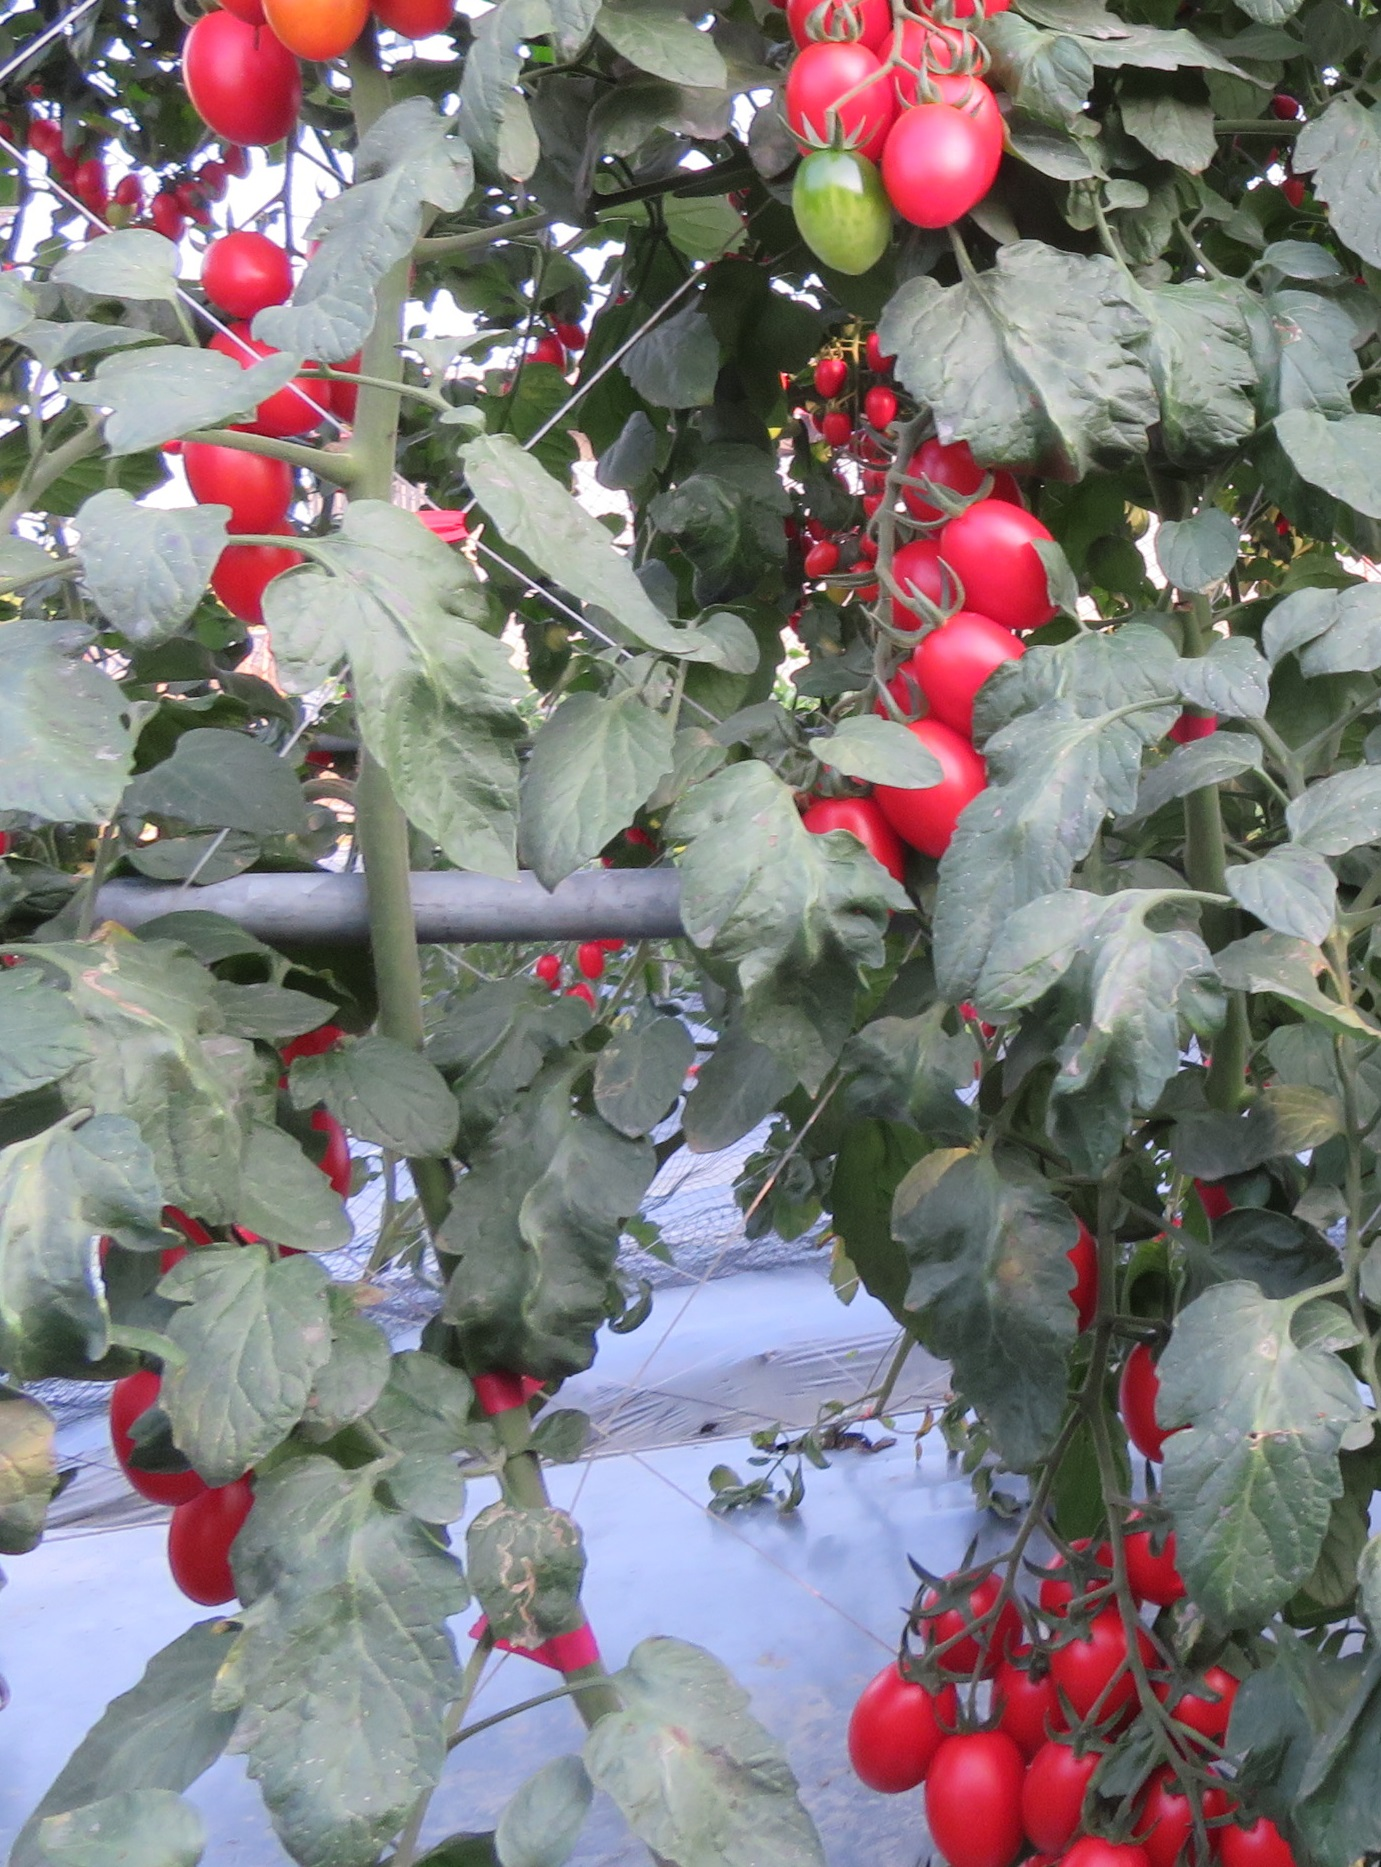green: (786, 148, 891, 279)
orange: (267, 1, 368, 65)
red: (167, 12, 296, 152), (878, 90, 998, 229), (869, 717, 994, 850), (915, 1719, 1028, 1861), (191, 326, 339, 432), (849, 1658, 963, 1792), (933, 498, 1062, 614), (783, 28, 907, 148), (106, 1367, 210, 1506), (162, 1470, 260, 1607), (902, 614, 1013, 717), (1021, 1719, 1110, 1842), (915, 1561, 1017, 1667), (799, 792, 907, 891), (1145, 1755, 1237, 1867), (200, 532, 306, 630), (1121, 1496, 1211, 1607), (187, 429, 290, 527), (1121, 1329, 1192, 1470), (1046, 1607, 1137, 1707), (1044, 1529, 1129, 1628), (194, 234, 290, 313), (886, 20, 999, 73), (373, 1, 454, 42), (147, 189, 184, 239), (25, 115, 61, 165), (213, 133, 255, 177), (71, 152, 106, 200), (865, 379, 896, 429), (804, 535, 838, 582), (809, 353, 844, 397), (554, 309, 593, 347), (573, 940, 609, 981), (821, 406, 854, 450), (849, 561, 878, 611), (532, 955, 564, 998), (196, 157, 229, 197), (856, 487, 892, 524)
